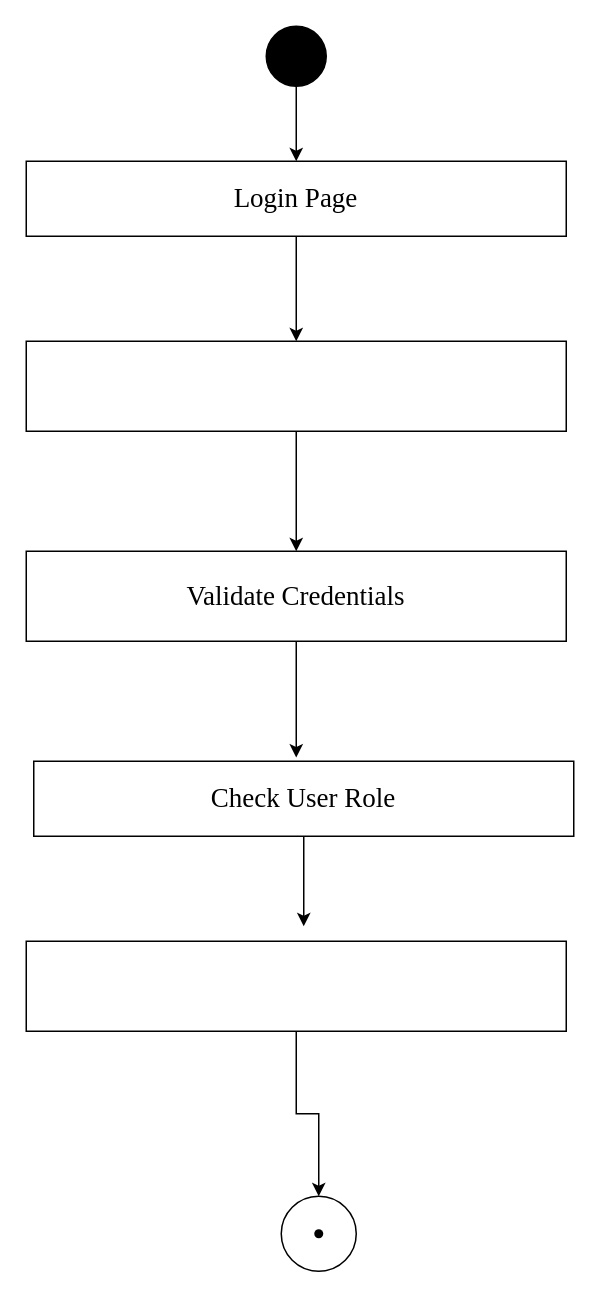
Some shapes in this 600 by 1298 pixel diagram are drawn without their labels. The centre of each missing label's shape, as x and y in pixels:
Enter Credentials: point 295,385
Redirect to Dashboard: point 295,985
